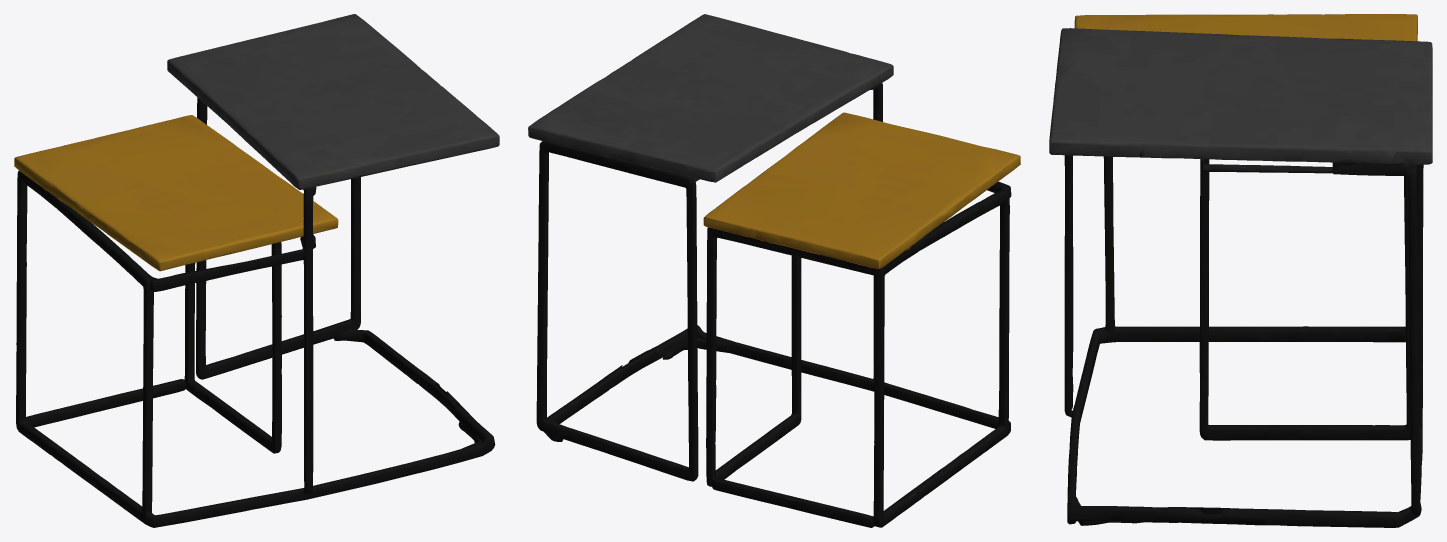
Rendered from bauhaus-nesting-tables.glb.
3 renders of one model, left to right at view 1: azimuth 30°, elevation 25°; view 2: azimuth 150°, elevation 25°; view 3: azimuth 270°, elevation 25°, orthographic. The views are drawn at different scales.
Visible parts, largest first — view 1: world; view 2: world; view 3: world.
Boxes of the visible parts, x1,y1,x2,y2 form: world: (14, 14, 499, 527); world: (528, 14, 1020, 527); world: (1049, 14, 1432, 527).
Size of the model in its own units: 0.5 by 0.45 by 0.4.
1 material, 1 textured.
